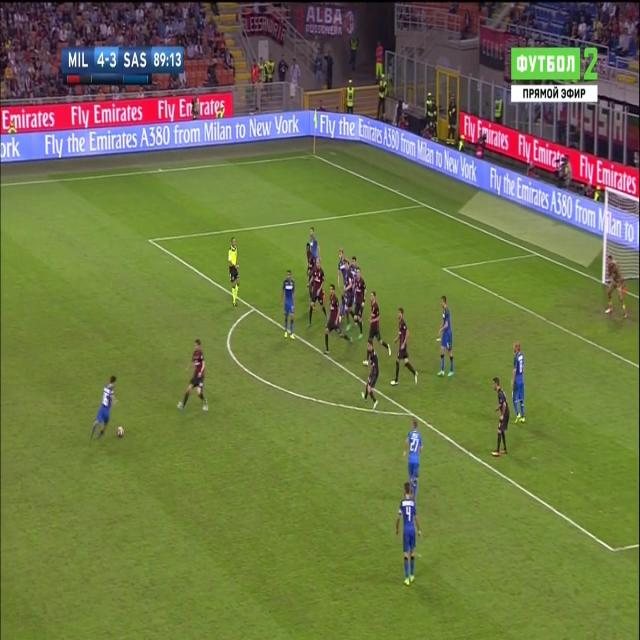Ball: (116, 424, 125, 441)
Goalkeeper: (604, 252, 630, 321)
Player: (395, 482, 425, 586), (175, 336, 210, 416), (360, 288, 393, 370), (322, 283, 355, 359), (389, 305, 418, 388), (88, 372, 119, 448), (304, 257, 327, 333), (509, 339, 529, 426), (490, 374, 510, 460), (402, 416, 424, 490), (437, 291, 455, 381), (360, 338, 380, 410), (278, 268, 296, 342), (352, 265, 368, 335), (342, 257, 354, 333), (307, 226, 321, 260), (336, 246, 346, 287), (304, 243, 316, 273), (351, 251, 357, 283)
Referee: (226, 237, 242, 308)
